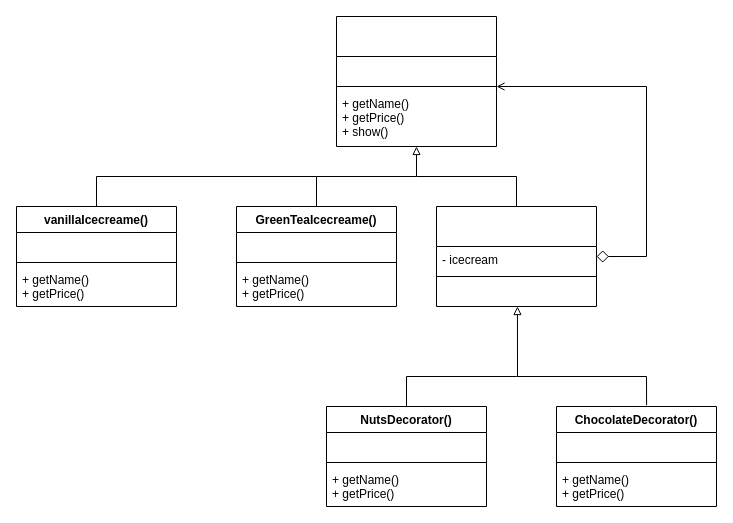
The diagram is 733 pixels wide and 523 high, and some of its shapes have lost their labels. Here are the shapes that lost their labels. From the top down, the box of each, then its label:
(336, 16, 496, 146): «Abstract class» Icecreame()
(436, 206, 596, 306): «Abstract class» Decorator()
